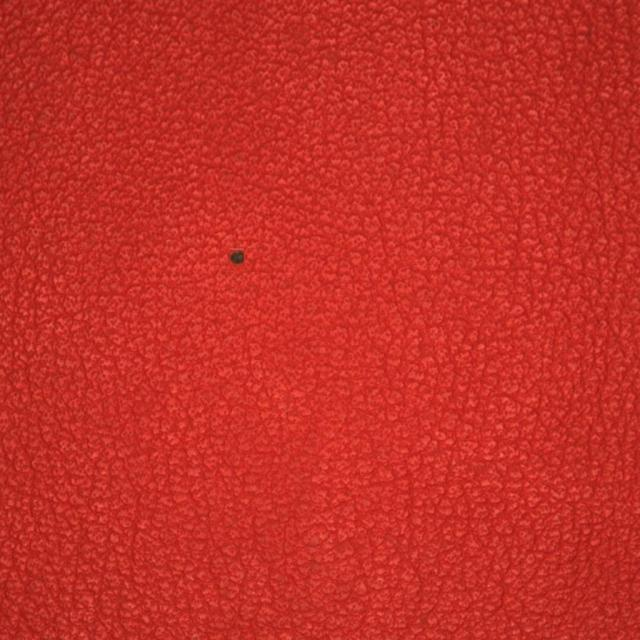Hole: (165, 196, 316, 329)
